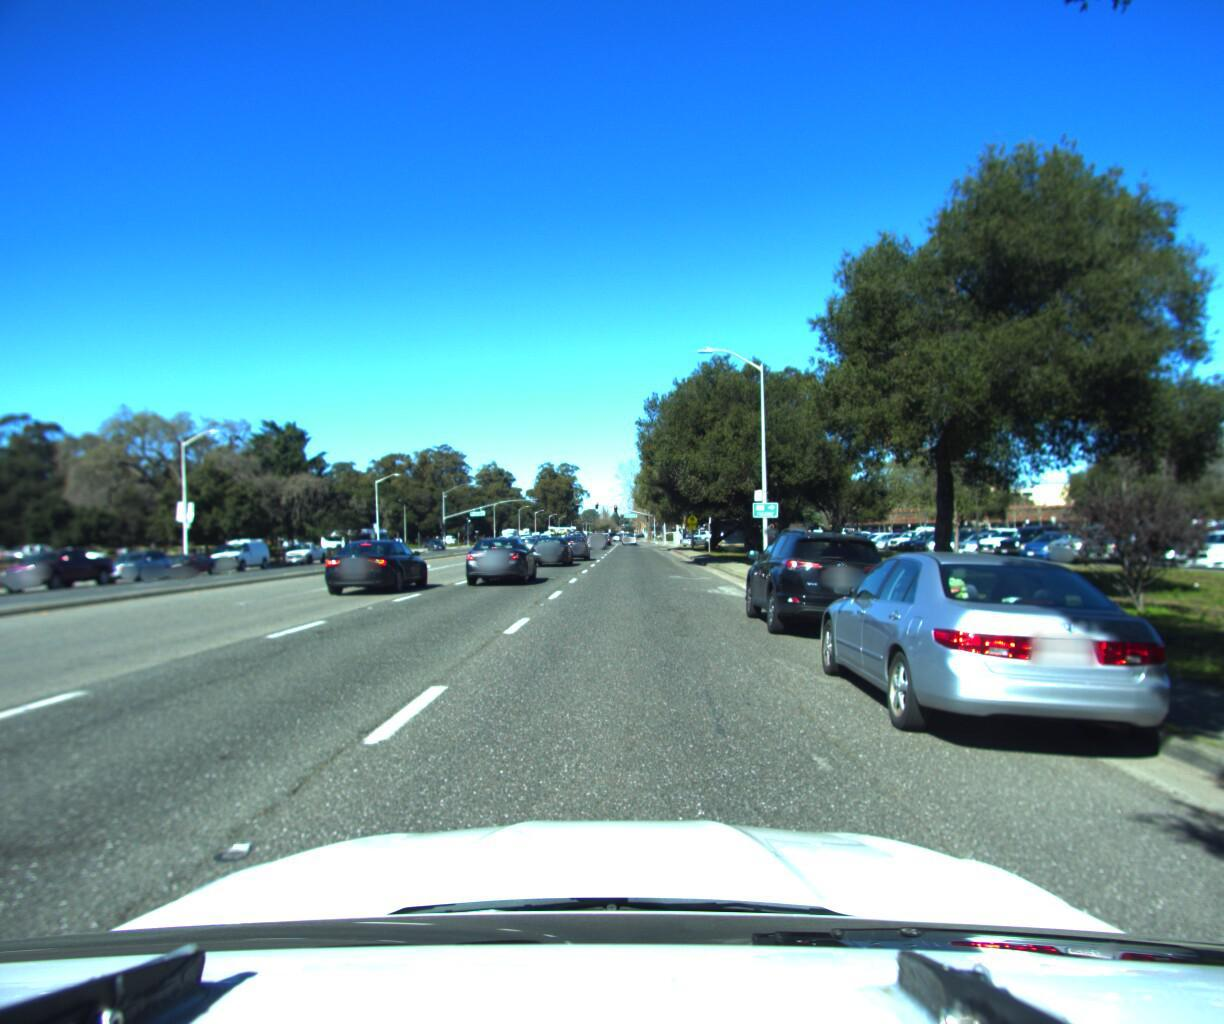car: (803, 539, 1209, 781), (738, 520, 902, 637), (318, 533, 434, 595), (0, 545, 119, 597), (458, 534, 536, 587), (93, 547, 179, 586), (147, 550, 223, 581), (525, 531, 575, 566), (278, 540, 331, 568), (554, 532, 590, 559), (511, 534, 542, 555), (585, 532, 603, 547)
other_vehicle: (202, 538, 271, 574), (548, 522, 576, 548)
